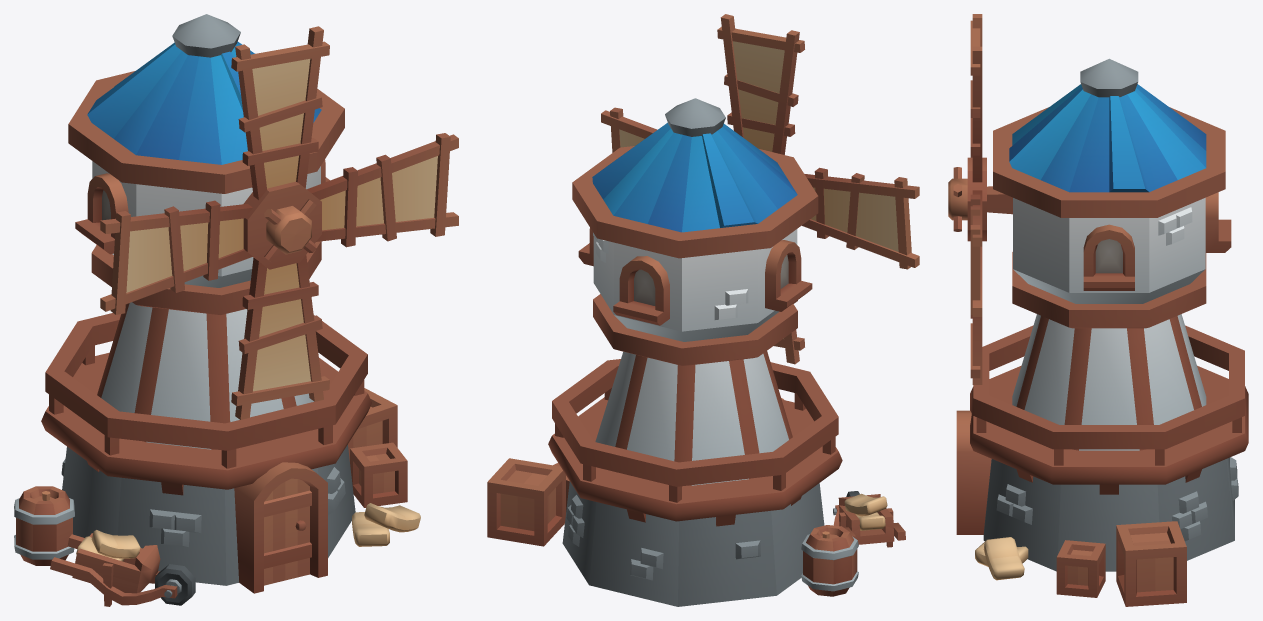
The model's file is windmill_blue.glb.
The picture shows the model from 3 angles, left to right: view 1: azimuth 30°, elevation 25°; view 2: azimuth 150°, elevation 25°; view 3: azimuth 270°, elevation 25°; orthographic projection. The views are drawn at different scales.
Parts seen in each view (by area): view 1: windmill_blue; view 2: windmill_blue; view 3: windmill_blue.
Part boxes in pixels (x1,y1,x2,y2): windmill_blue: (14,14,458,606); windmill_blue: (487,14,919,606); windmill_blue: (948,14,1248,606).
Size of the model in its own units: 0.5629 by 0.7289 by 0.4083.
Materials: 1 (1 with a texture image).
